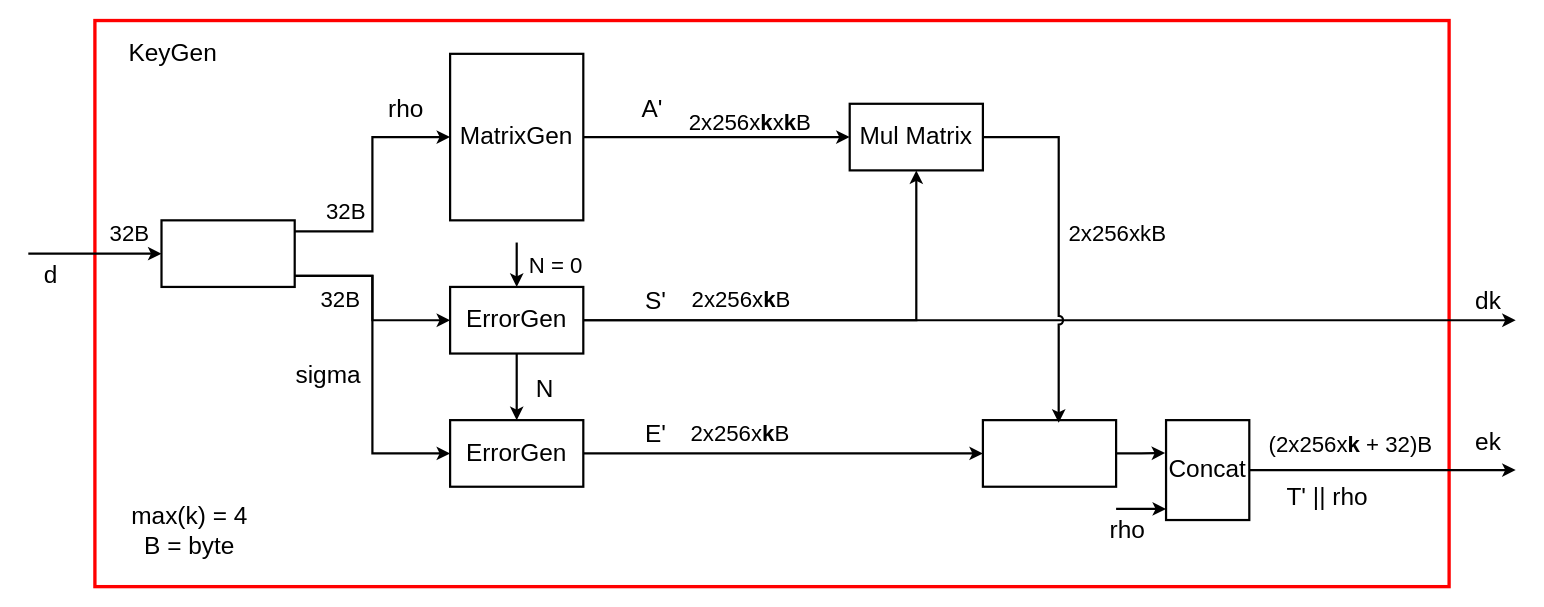
Some shapes in this 1544 by 607 pixel diagram are drawn without their labels. Here are the shapes that lost their labels. From the top down, the centre of each, then its label:
At [227,253]: "Hash G".
At [1049,452]: "Add Matrix".
